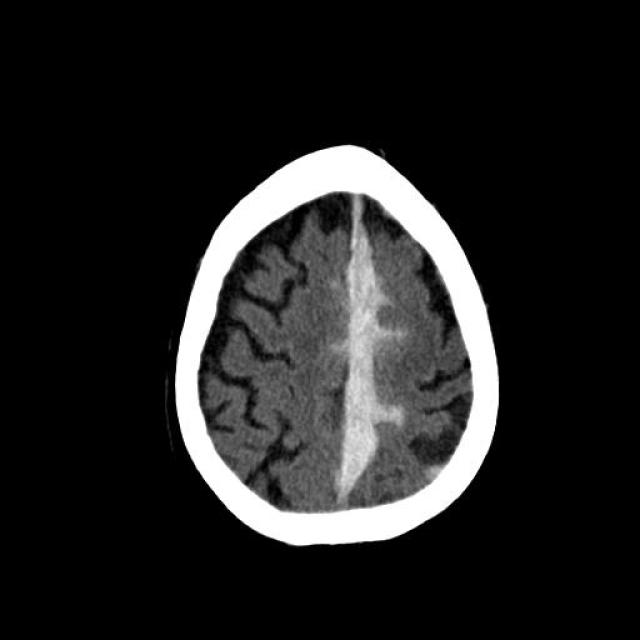Subarachnoid: (374, 394, 418, 451), (419, 456, 455, 484)
Subdural: (329, 186, 421, 505)
